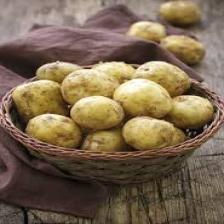Diseased-fungal potato: (60, 68, 123, 108), (120, 113, 186, 151), (11, 81, 72, 122), (131, 59, 191, 95), (25, 114, 81, 152), (168, 93, 216, 129), (164, 33, 208, 66), (122, 20, 166, 50), (158, 0, 202, 30), (34, 61, 86, 86)
Potato: (113, 78, 172, 117), (69, 96, 127, 132)
